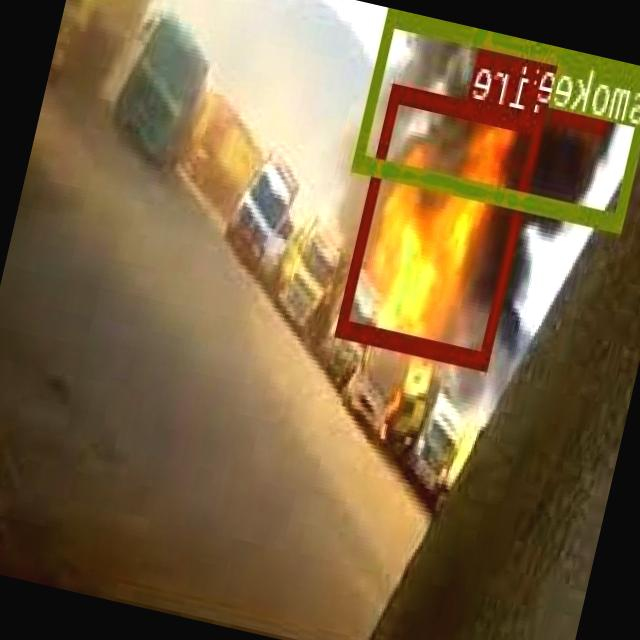fire: (337, 80, 548, 366), (554, 49, 624, 129)
smoke: (355, 8, 640, 227)
